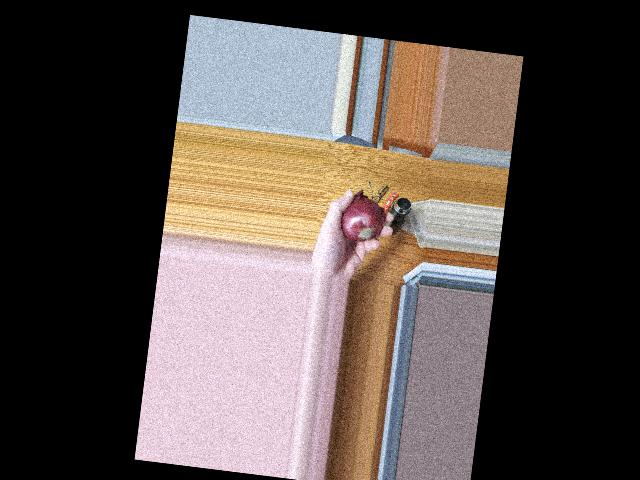onion: (339, 196, 384, 242)
